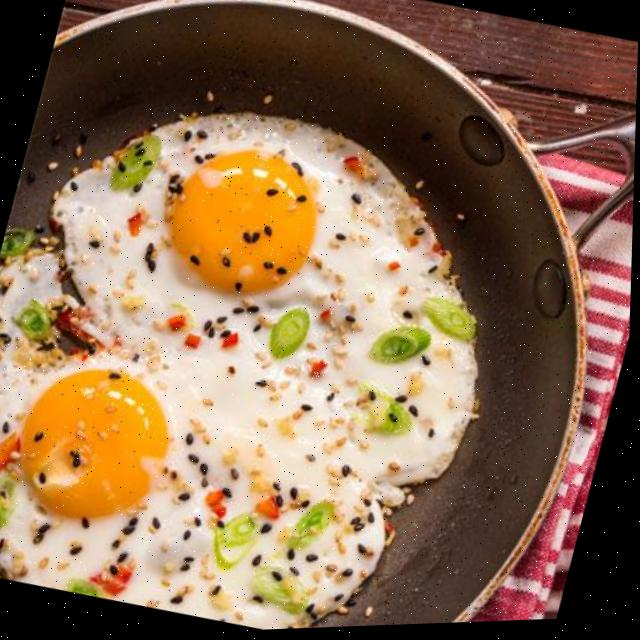Egg: (52, 115, 477, 488), (0, 239, 389, 632)
